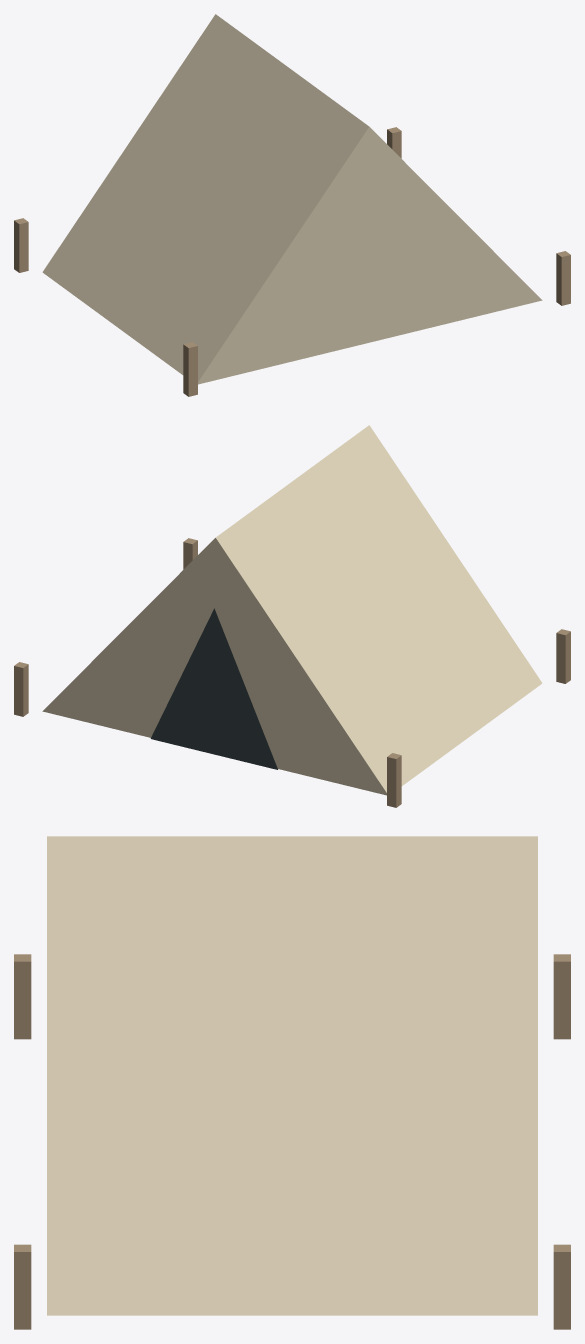
Rendered from NAT_CastawayTent.fbx.
3 views of the same model, one above another, from view 1: azimuth 30°, elevation 25°; view 2: azimuth 150°, elevation 25°; view 3: azimuth 270°, elevation 25° (orthographic). The views are drawn at different scales.
Visible parts, largest first — view 1: Canvas, NAT_CastawayTent_ENV_Wood; view 2: Canvas, Door, NAT_CastawayTent_ENV_Wood; view 3: Canvas, NAT_CastawayTent_ENV_Wood.
Part boxes in pixels (left/top/right/bottom): Canvas: left=42, top=14, right=542, bottom=384; NAT_CastawayTent_ENV_Wood: left=14, top=127, right=570, bottom=396; Canvas: left=42, top=425, right=542, bottom=795; Door: left=150, top=608, right=277, bottom=769; NAT_CastawayTent_ENV_Wood: left=14, top=538, right=570, bottom=807; Canvas: left=47, top=836, right=537, bottom=1315; NAT_CastawayTent_ENV_Wood: left=14, top=954, right=570, bottom=1329.
Size of the model in its own units: 287 by 155 by 227.
